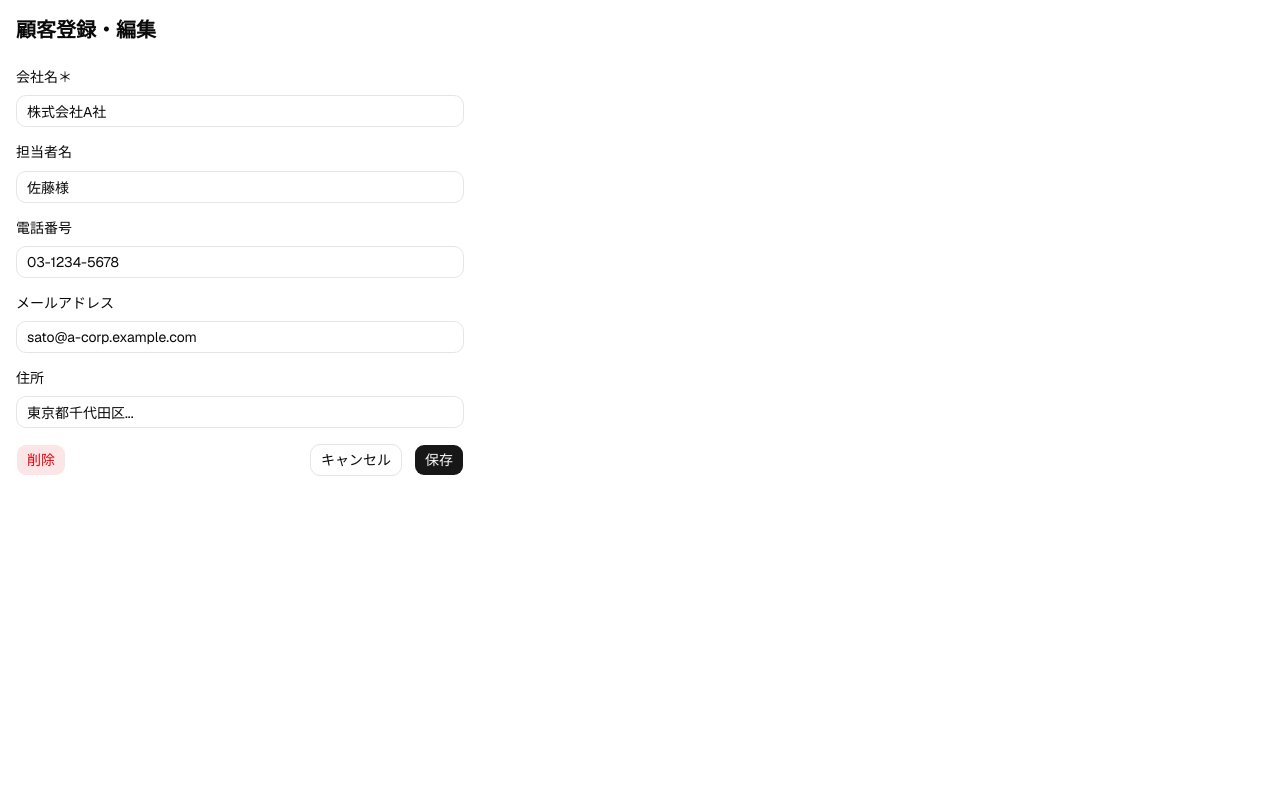
Scenario: CustomerForm (edit mode) › shows the API's conflict message and does not navigate when deletion is blocked (TC-SCR05-04)
Expected: the field labelled "会社名＊" is shown, [16,95,464,127]
Step 1. Click the button "削除" → (41, 460), box [16,444,66,476]
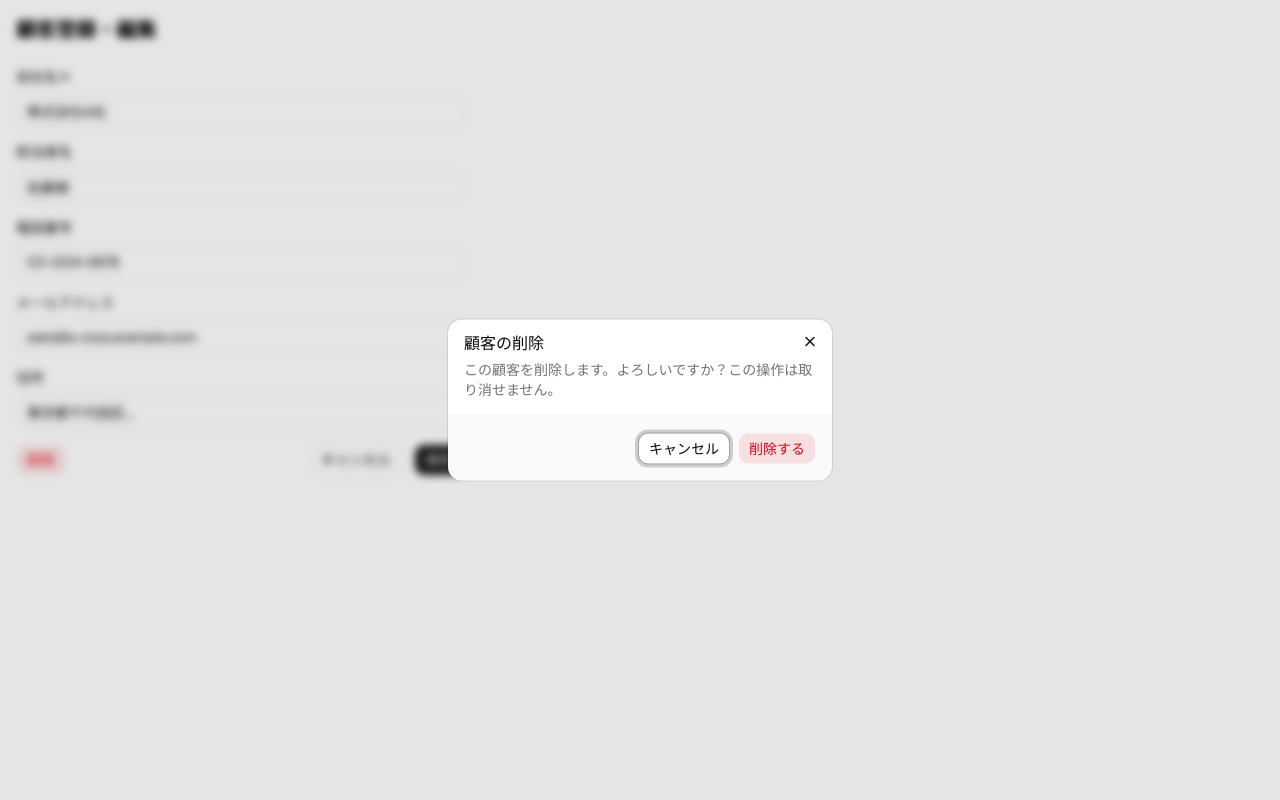
Step 2. Click the button "削除する" → (777, 448), box [738,432,816,464]
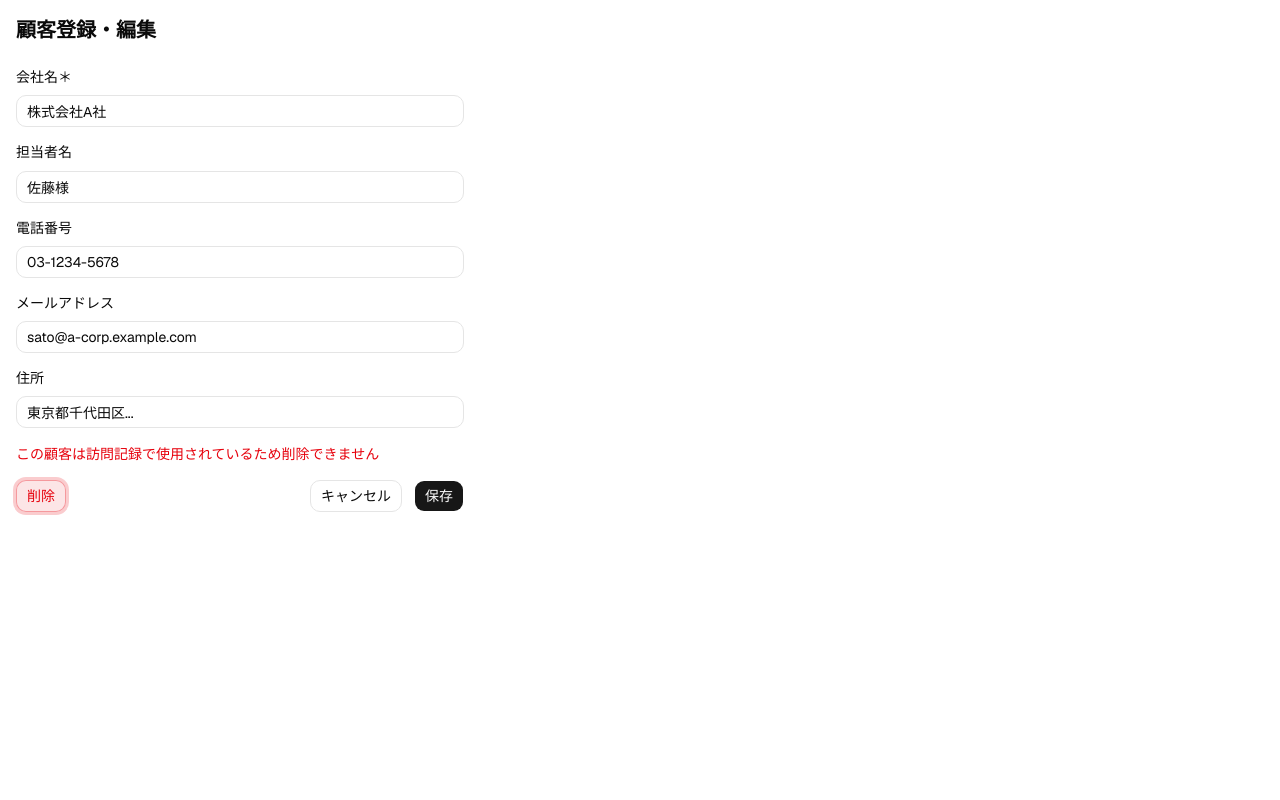
Now the text "この顧客は訪問記録で使用されているため削除できません" is shown, box [16,445,379,463]
